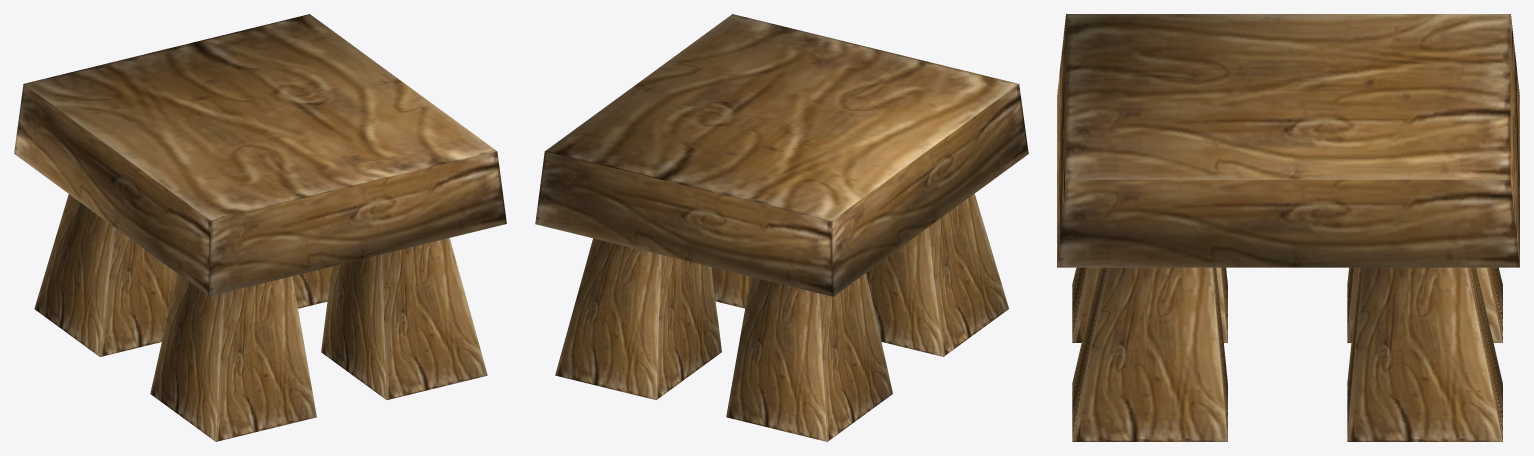
File: inntabletiny.obj
The picture shows the model from 3 angles, left to right: view 1: azimuth 30°, elevation 25°; view 2: azimuth 150°, elevation 25°; view 3: azimuth 270°, elevation 25°; orthographic projection. The views are drawn at different scales.
Parts seen in each view (by area): view 1: inntabletiny; view 2: inntabletiny; view 3: inntabletiny.
Boxes of the visible parts, bbox=[...] form: inntabletiny: bbox=[14, 14, 506, 441]; inntabletiny: bbox=[535, 14, 1028, 441]; inntabletiny: bbox=[1057, 14, 1519, 441].
Size of the model in its own units: 1.56 by 1.12 by 1.77.
1 material, 1 textured.
